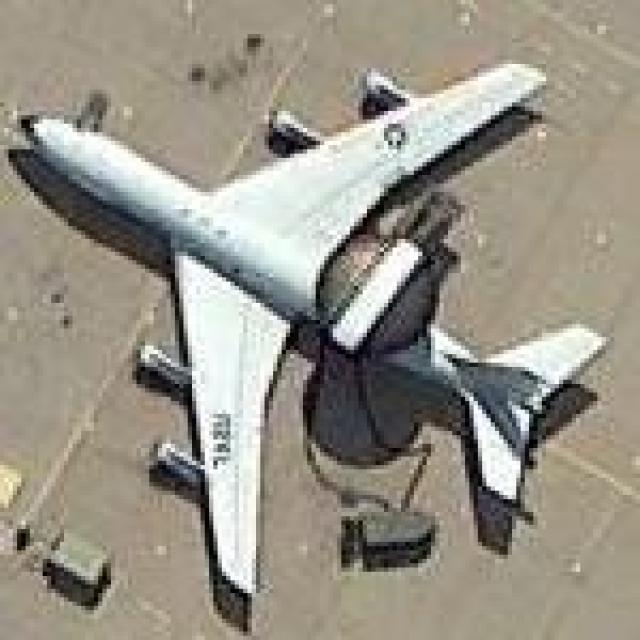E-3_TopDown: (0, 47, 610, 606)
